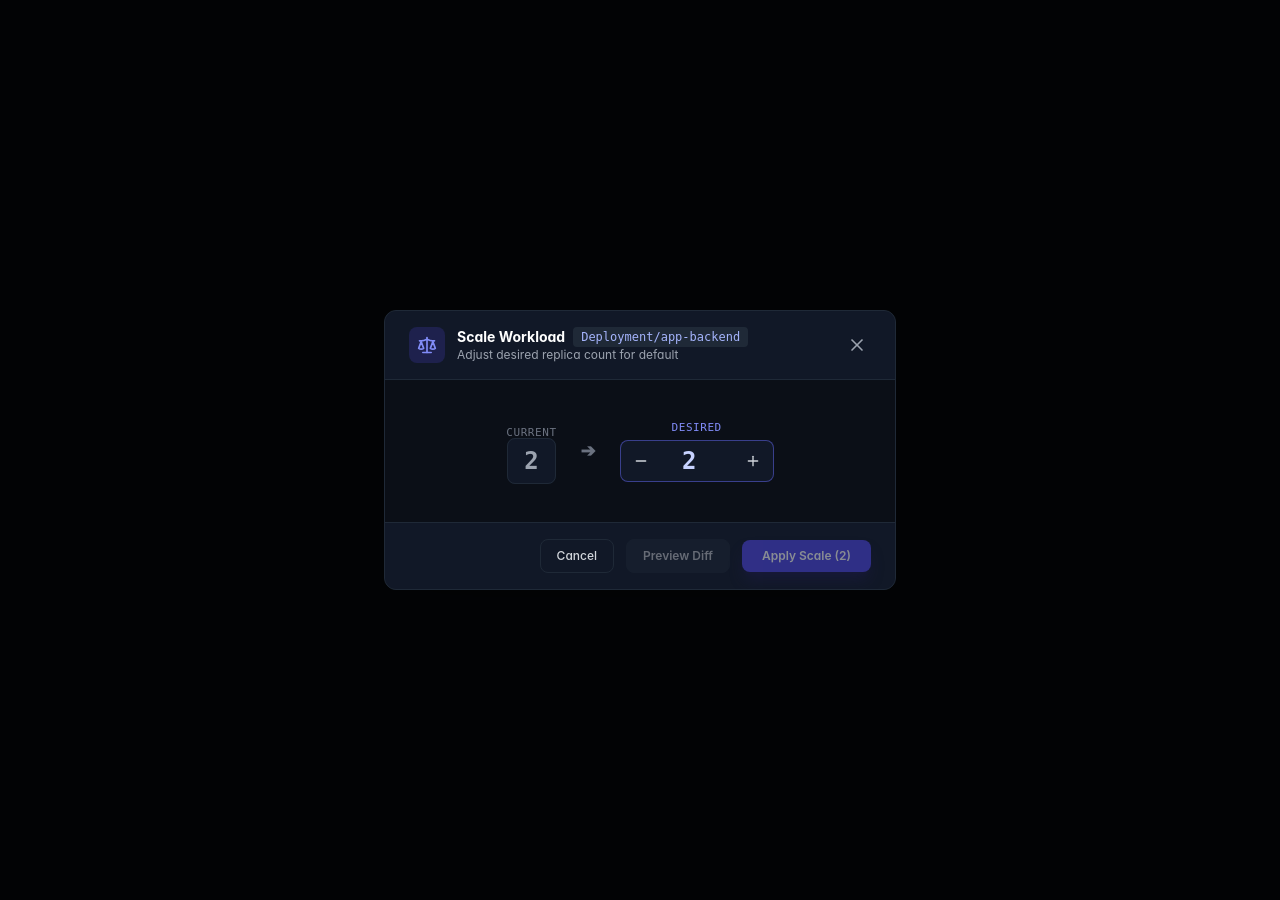
it: Comprehensive Modals and Interactive Actions Suite › renders ScaleModal and handles replica increment and dry-run preview
Expected: the text "Scale Workload" is shown, left=457, top=327, right=565, bottom=347
Expected: the text "Deployment/app-backend" is shown, left=573, top=327, right=748, bottom=347
Increment replicas
Replace the text in the number field with "3" at (697, 461), box left=665, top=445, right=729, bottom=477
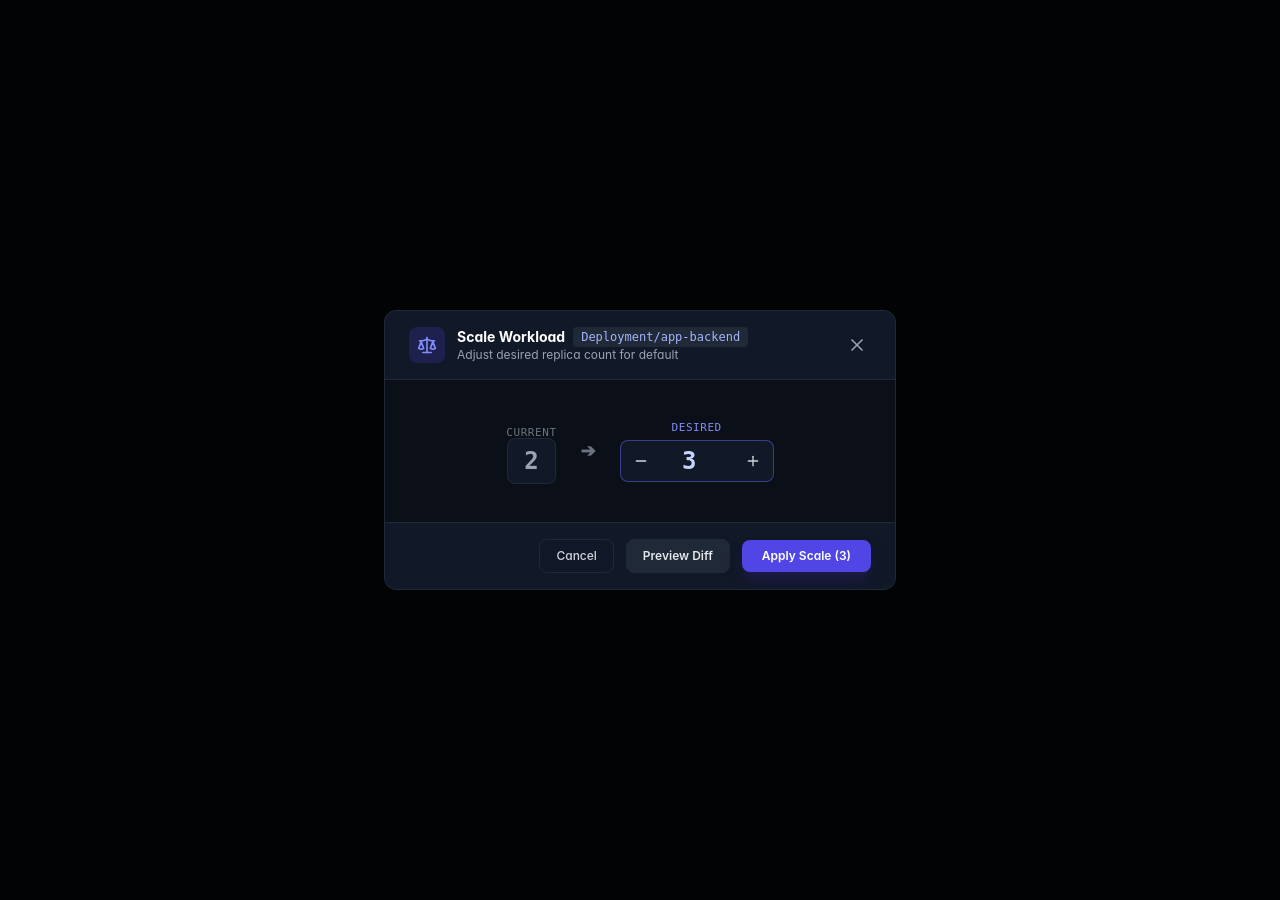
Click Preview Diff
Click the button "Preview Diff" at (678, 556), box left=626, top=539, right=730, bottom=573
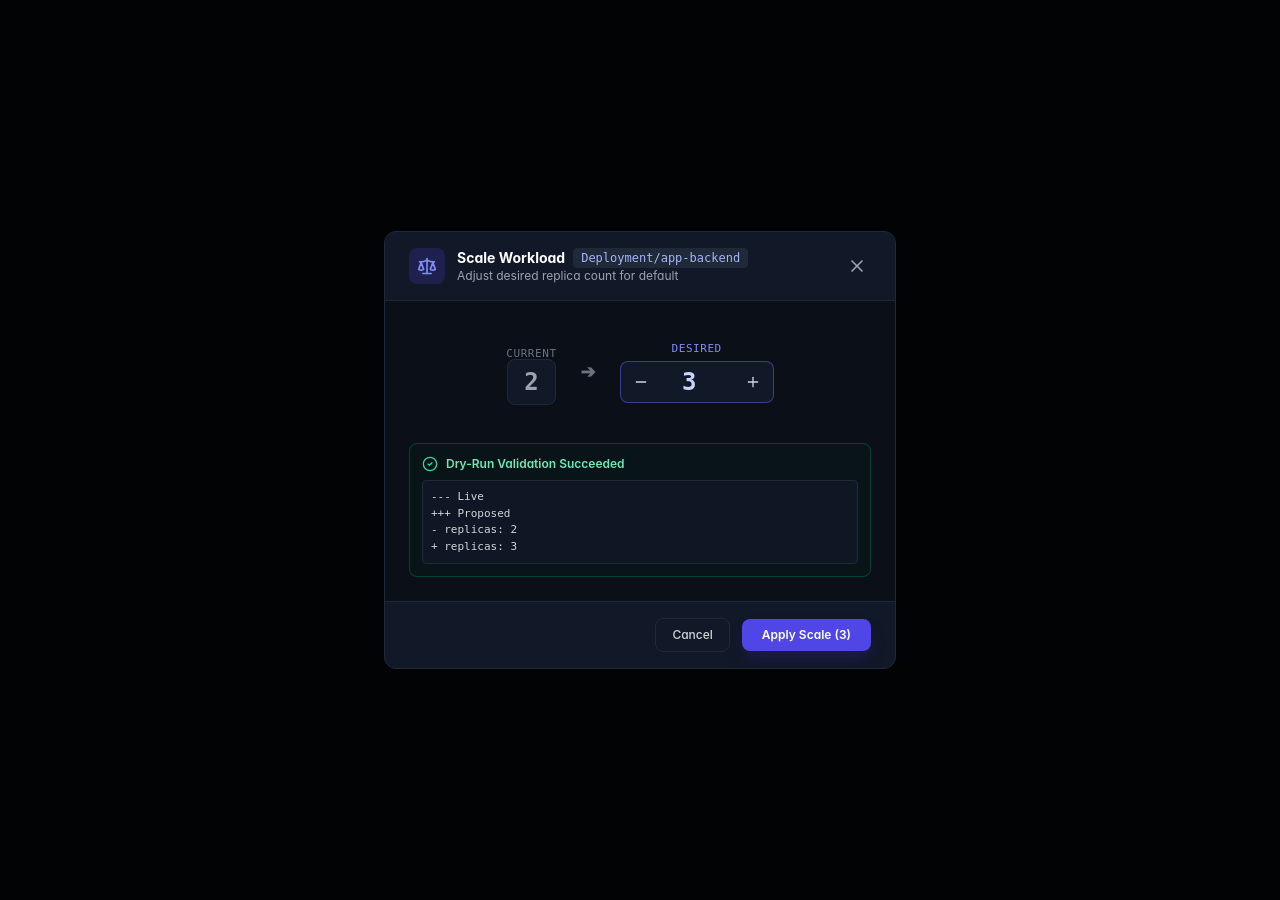
Expected: the text "Dry-Run Validation Succeeded" is shown, left=446, top=456, right=625, bottom=472
